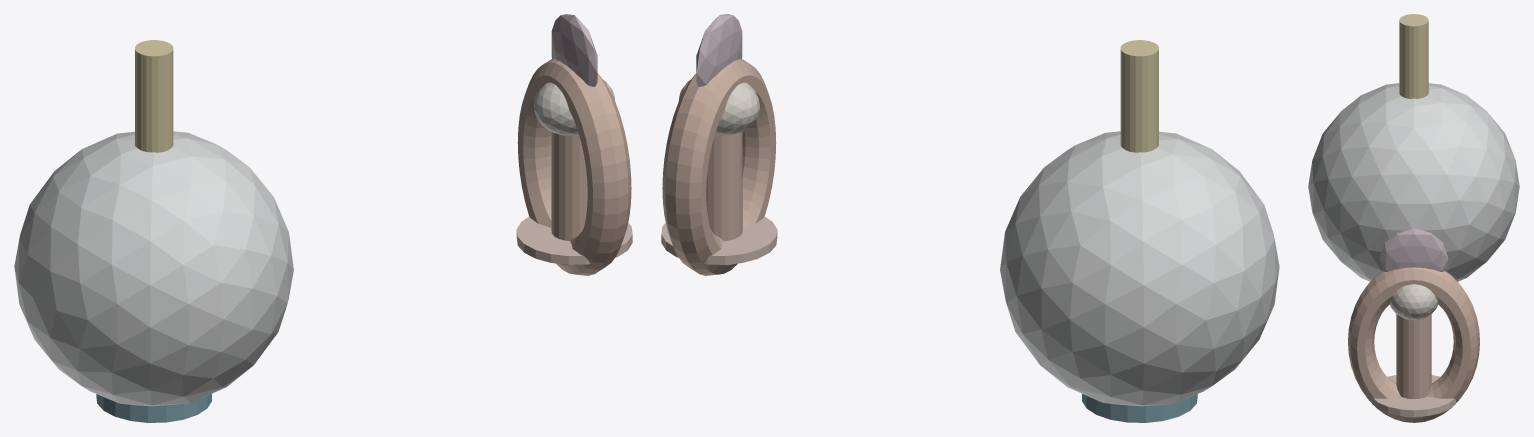
The model's file is eye-ear-g3-medium.glb.
3 renders of one model, left to right at view 1: azimuth 30°, elevation 25°; view 2: azimuth 150°, elevation 25°; view 3: azimuth 270°, elevation 25°, orthographic. The views are drawn at different scales.
Visible parts, largest first — view 1: eyeball, outer_ear, optic_nerve_proxy, ear_canal, cochlea_proxy, tympanic_membrane_proxy, iris, middle_ear_proxy; view 2: eyeball, outer_ear, optic_nerve_proxy, ear_canal, cochlea_proxy, tympanic_membrane_proxy, iris, middle_ear_proxy; view 3: eyeball, outer_ear, ear_canal, optic_nerve_proxy, cochlea_proxy, tympanic_membrane_proxy, middle_ear_proxy.
Part boxes in pixels (bbox=[...]): eyeball: bbox=[14, 131, 293, 406]; outer_ear: bbox=[517, 59, 631, 275]; optic_nerve_proxy: bbox=[135, 40, 173, 152]; ear_canal: bbox=[551, 132, 587, 240]; cochlea_proxy: bbox=[551, 14, 597, 86]; tympanic_membrane_proxy: bbox=[516, 217, 632, 264]; iris: bbox=[96, 394, 211, 422]; middle_ear_proxy: bbox=[534, 79, 615, 135]; eyeball: bbox=[1000, 131, 1279, 406]; outer_ear: bbox=[662, 59, 776, 275]; optic_nerve_proxy: bbox=[1120, 40, 1158, 152]; ear_canal: bbox=[706, 132, 742, 240]; cochlea_proxy: bbox=[696, 14, 742, 86]; tympanic_membrane_proxy: bbox=[661, 217, 777, 264]; iris: bbox=[1082, 394, 1197, 422]; middle_ear_proxy: bbox=[678, 79, 759, 135]; eyeball: bbox=[1308, 83, 1519, 281]; outer_ear: bbox=[1348, 267, 1479, 422]; ear_canal: bbox=[1396, 314, 1431, 398]; optic_nerve_proxy: bbox=[1399, 14, 1428, 98]; cochlea_proxy: bbox=[1379, 228, 1448, 271]; tympanic_membrane_proxy: bbox=[1371, 375, 1456, 416]; middle_ear_proxy: bbox=[1390, 284, 1437, 320].
Size of the model in its own units: 3.52 by 1.99 by 1.44.
